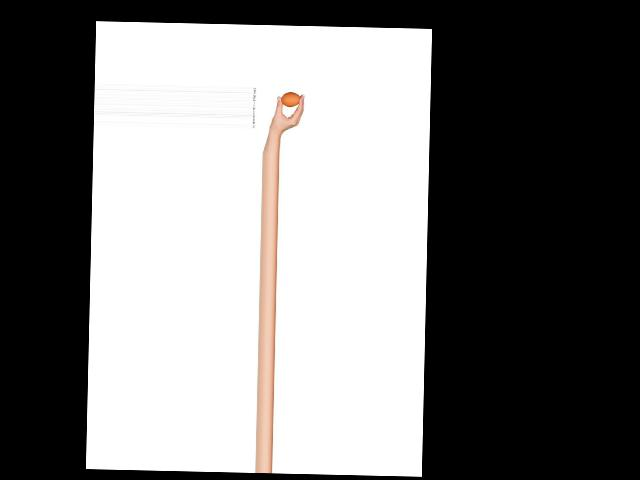egg: (280, 91, 300, 106)
